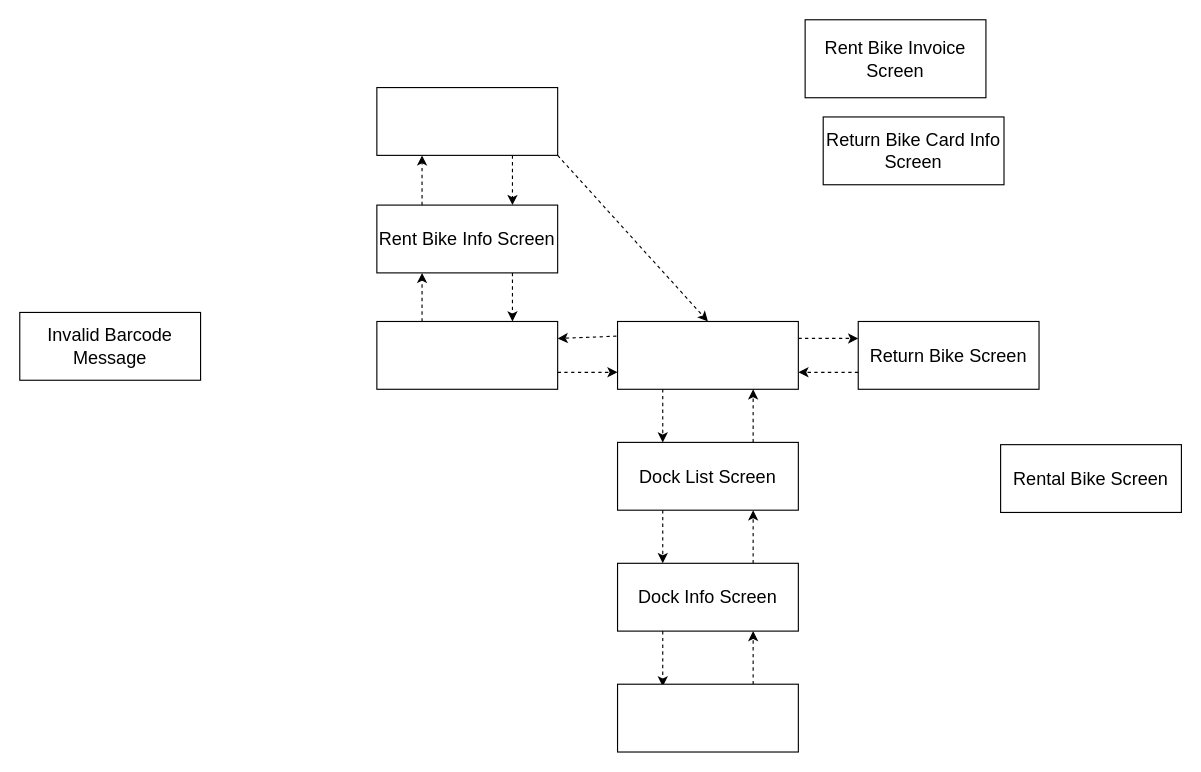
Image size: 1201x772. Some labels were removed from this diagram. The centre of each missing label's shape, as x and y in pixels:
"Bike Info Screen" belongs at point 707,717.
"Card Info Screen" belongs at point 467,120.
"Main Screen" belongs at point 707,354.
"Rent Bike Screen" belongs at point 467,354.
